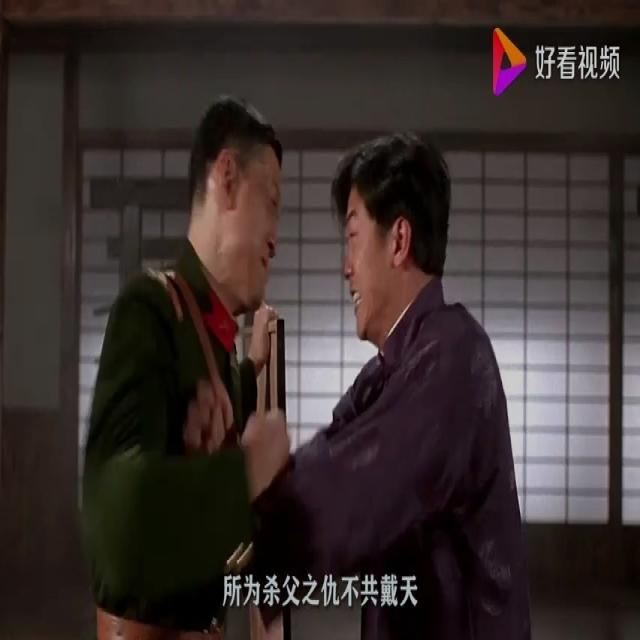fight: (82, 100, 533, 640)
